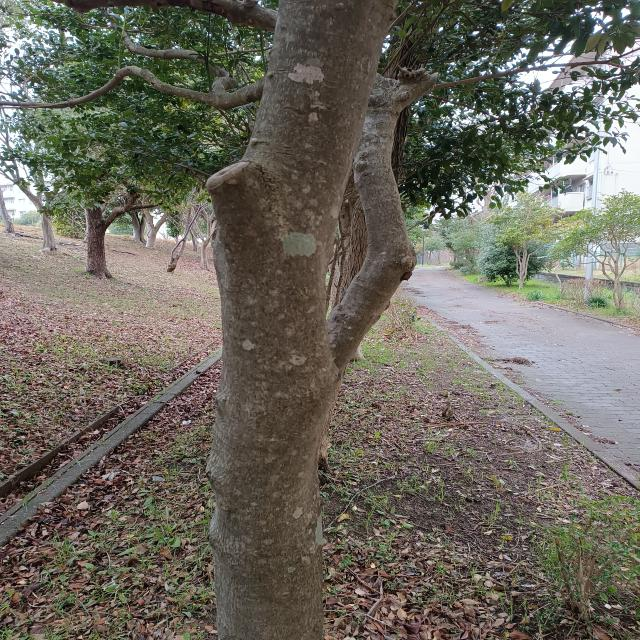Branch: (203, 0, 387, 373), (328, 72, 416, 370)
Twig: (2, 67, 263, 110), (125, 31, 202, 62)
